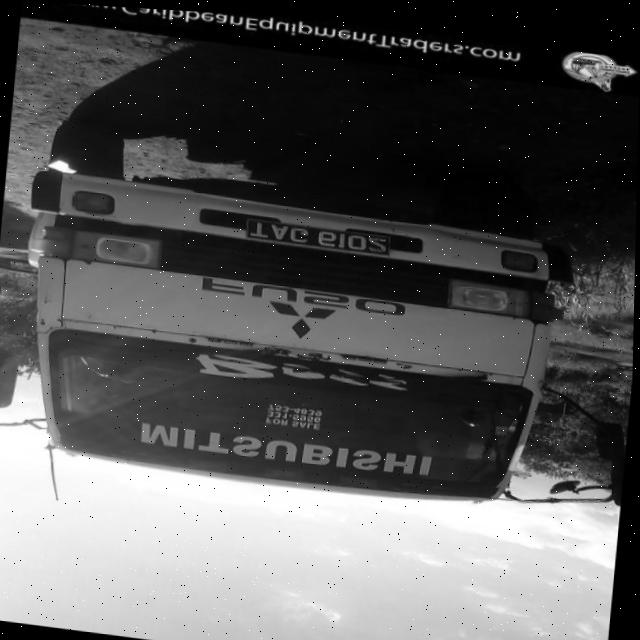truck: (1, 126, 591, 527)
